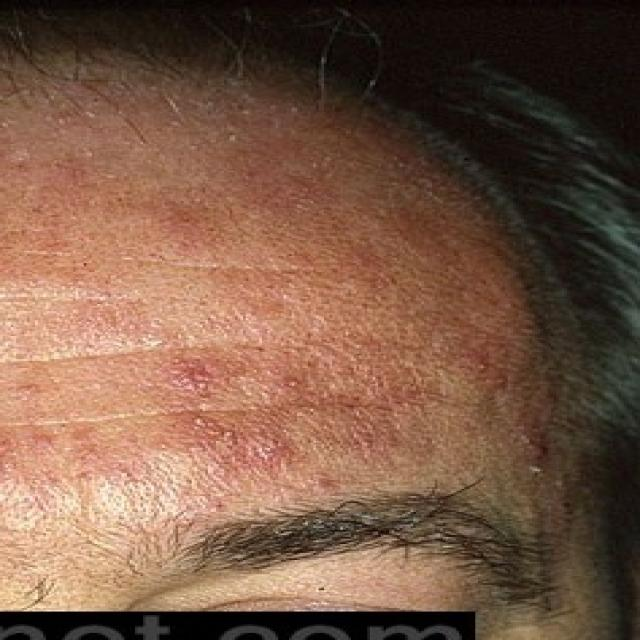Rosacea: (120, 338, 372, 472)
